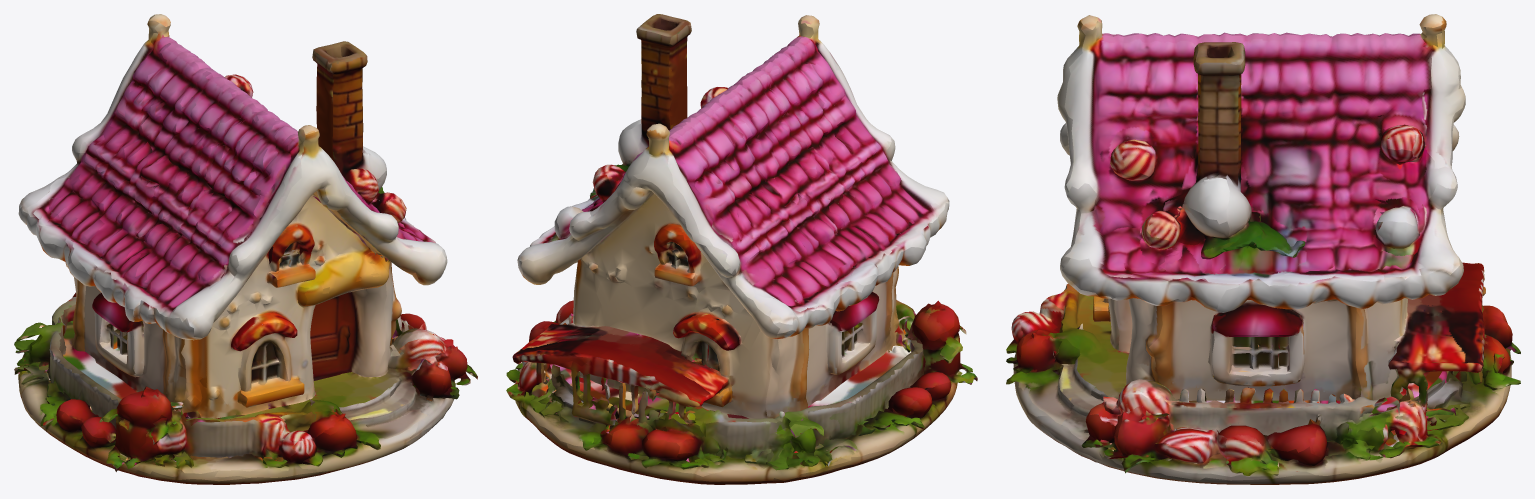
File: okashihouse.fbx
3 renders of one model, left to right at view 1: azimuth 30°, elevation 25°; view 2: azimuth 150°, elevation 25°; view 3: azimuth 270°, elevation 25°, orthographic. The views are drawn at different scales.
Parts seen in each view (by area): view 1: tmplojg_k7t.ply; view 2: tmplojg_k7t.ply; view 3: tmplojg_k7t.ply.
Boxes of the visible parts, x1,y1,x2,y2 form: tmplojg_k7t.ply: (14, 14, 477, 484); tmplojg_k7t.ply: (506, 14, 977, 484); tmplojg_k7t.ply: (1006, 14, 1520, 484).
Bounding box in the file's own units: 196 × 164 × 199.
